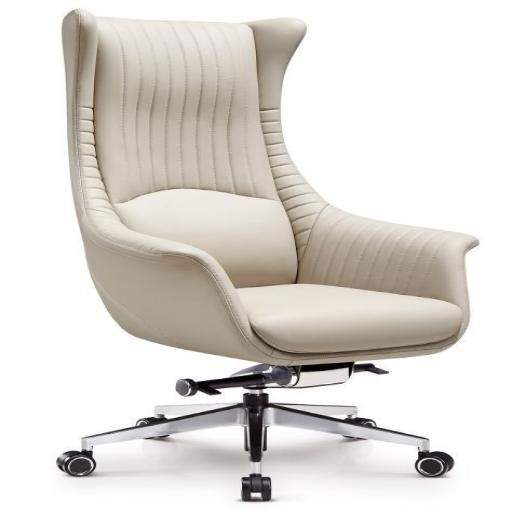chair: (22, 8, 476, 504)
